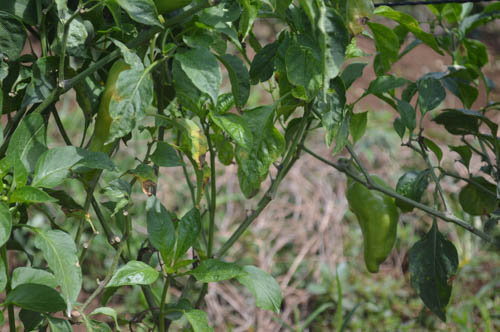ChiliPepper: (350, 178, 402, 275), (83, 60, 129, 158)
